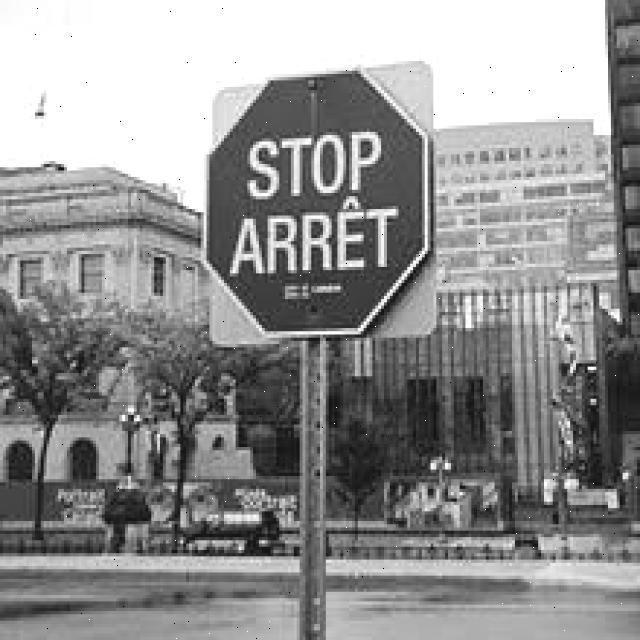stop sign: (208, 80, 432, 340)
